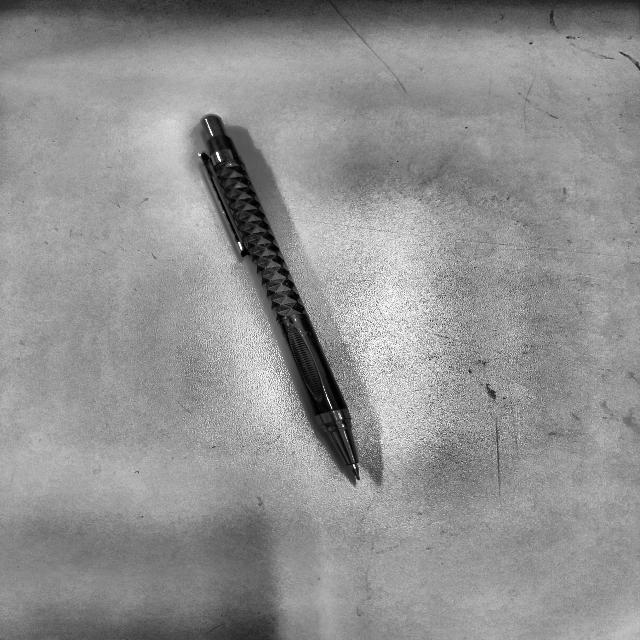Pen: (198, 117, 359, 482)
